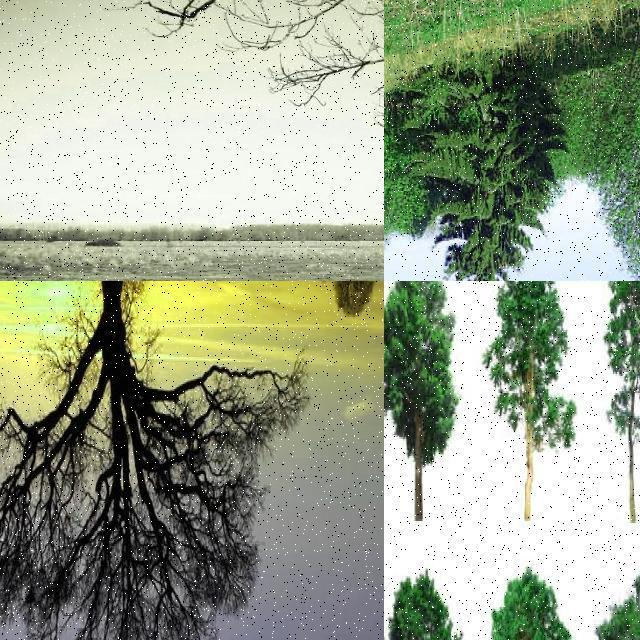tree: (0, 280, 306, 640), (69, 0, 384, 280), (426, 49, 558, 281), (483, 281, 577, 525), (384, 282, 476, 518), (384, 281, 460, 521), (580, 36, 640, 280), (384, 281, 438, 511), (603, 280, 640, 523), (478, 568, 578, 640), (384, 105, 432, 232), (383, 124, 432, 246), (384, 572, 461, 640), (312, 280, 376, 328)
